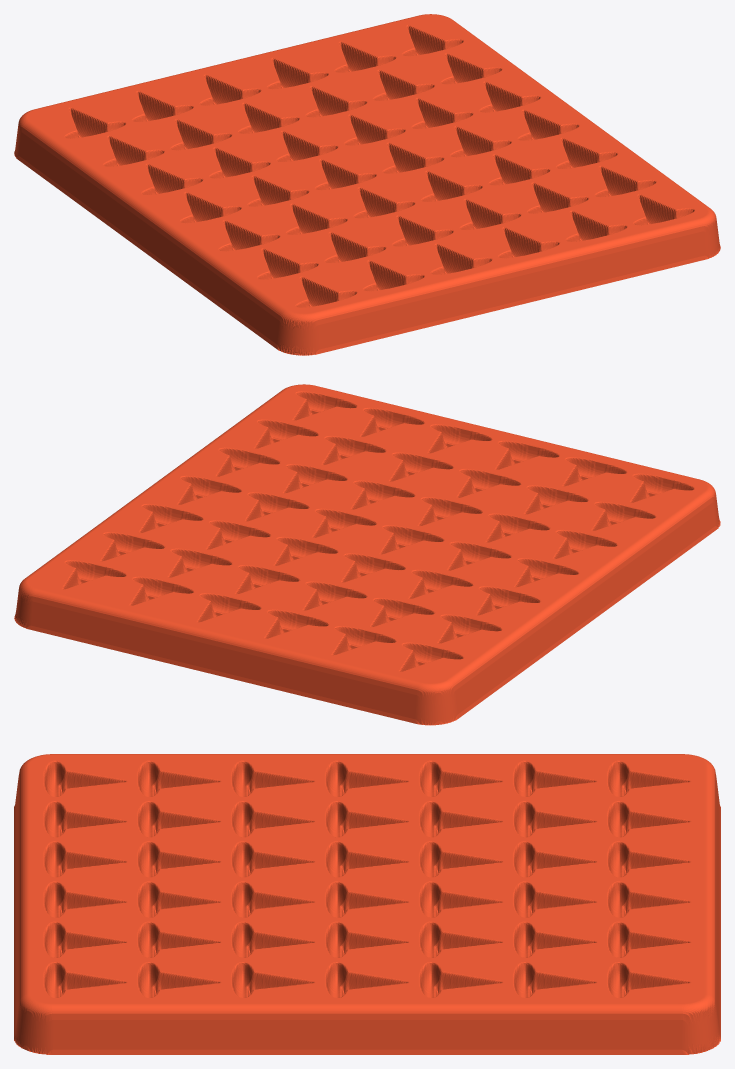
Rendered from mold.glb.
3 renders of one model, top to bottom at view 1: azimuth 30°, elevation 25°; view 2: azimuth 150°, elevation 25°; view 3: azimuth 270°, elevation 25°, orthographic. The views are drawn at different scales.
Parts seen in each view (by area): view 1: geometry_0; view 2: geometry_0; view 3: geometry_0.
Part boxes in pixels (x1=…): geometry_0: x1=14, y1=14, x2=720, y2=355; geometry_0: x1=14, y1=384, x2=720, y2=725; geometry_0: x1=14, y1=754, x2=720, y2=1054.
Bounding box in the file's own units: 0.1437 × 0.0114 × 0.1638.
